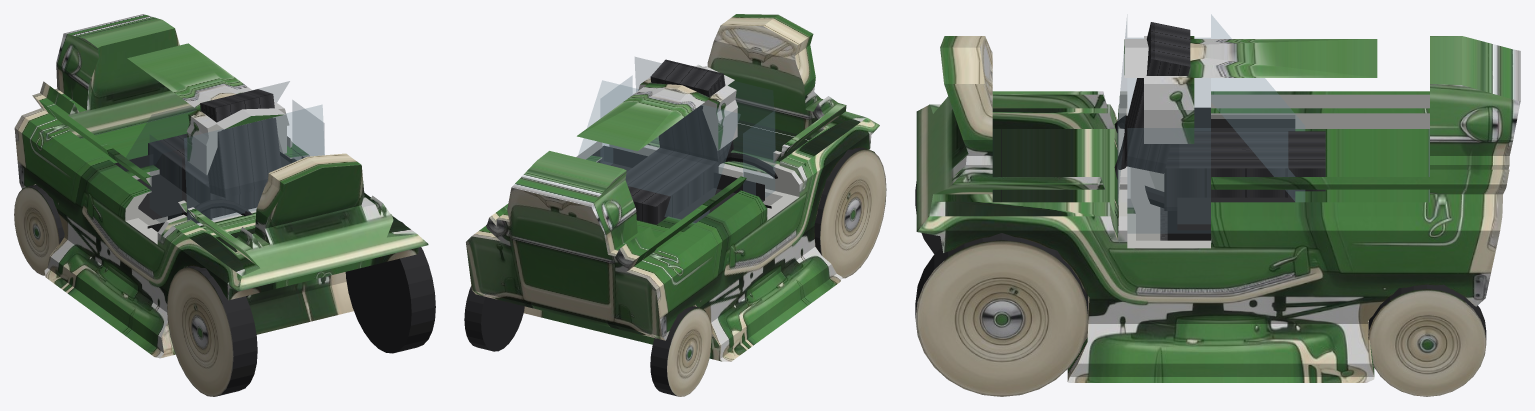
Rendered from riding_mower.glb.
3 views of the same model, side by side, from view 1: azimuth 30°, elevation 25°; view 2: azimuth 150°, elevation 25°; view 3: azimuth 270°, elevation 25° (orthographic). The views are drawn at different scales.
Parts seen in each view (by area): view 1: riding_mower, riding_mower_cabin, wheel_BL, wheel_BR, wheel_FL; view 2: riding_mower, riding_mower_cabin, wheel_BL, wheel_FL, wheel_FR; view 3: riding_mower, riding_mower_cabin, wheel_BR, wheel_FR.
Boxes of the visible parts, <box> form: riding_mower: <box>14,14,428,358</box>; riding_mower_cabin: <box>114,81,324,297</box>; wheel_BL: <box>167,266,257,396</box>; wheel_BR: <box>345,221,435,353</box>; wheel_FL: <box>14,184,64,275</box>; riding_mower: <box>466,14,879,361</box>; riding_mower_cabin: <box>578,57,777,224</box>; wheel_BL: <box>814,147,886,278</box>; wheel_FL: <box>650,306,712,396</box>; wheel_FR: <box>464,286,524,351</box>; riding_mower: <box>916,36,1520,382</box>; riding_mower_cabin: <box>1114,14,1325,240</box>; wheel_BR: <box>915,233,1088,396</box>; wheel_FR: <box>1368,284,1486,396</box>.
Size of the model in its own units: 1.05 by 0.9588 by 1.8.
Materials: 11 (4 with a texture image).
